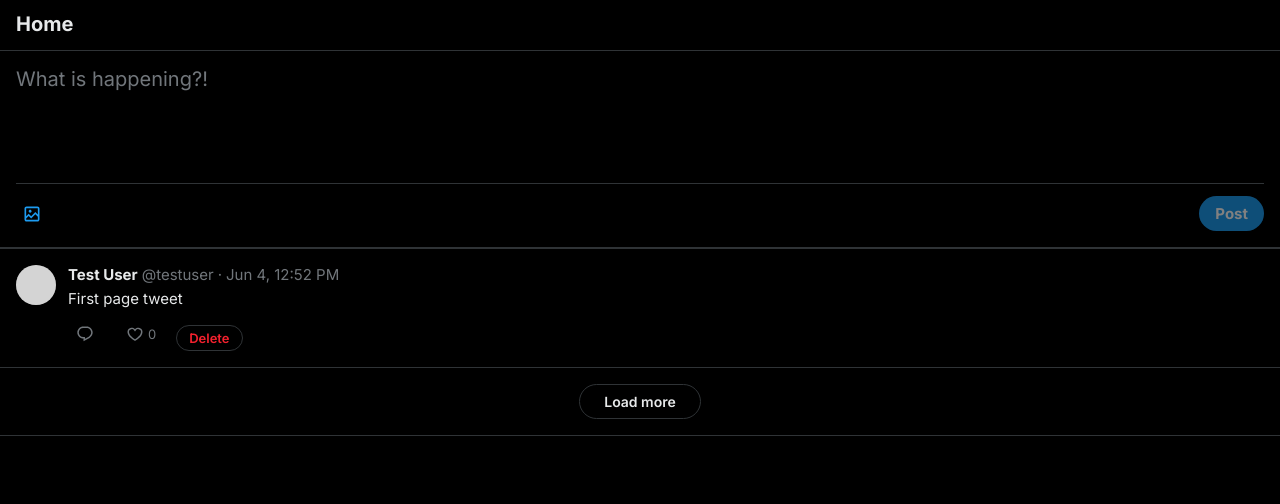
Timeline - Pagination › should load more tweets on Load More click
The image size is (1280, 504).
Expected: the text "First page tweet" is shown, 68,289 -> 183,308
Click the button "Load more" at point(640, 402), box 579,384 -> 701,419
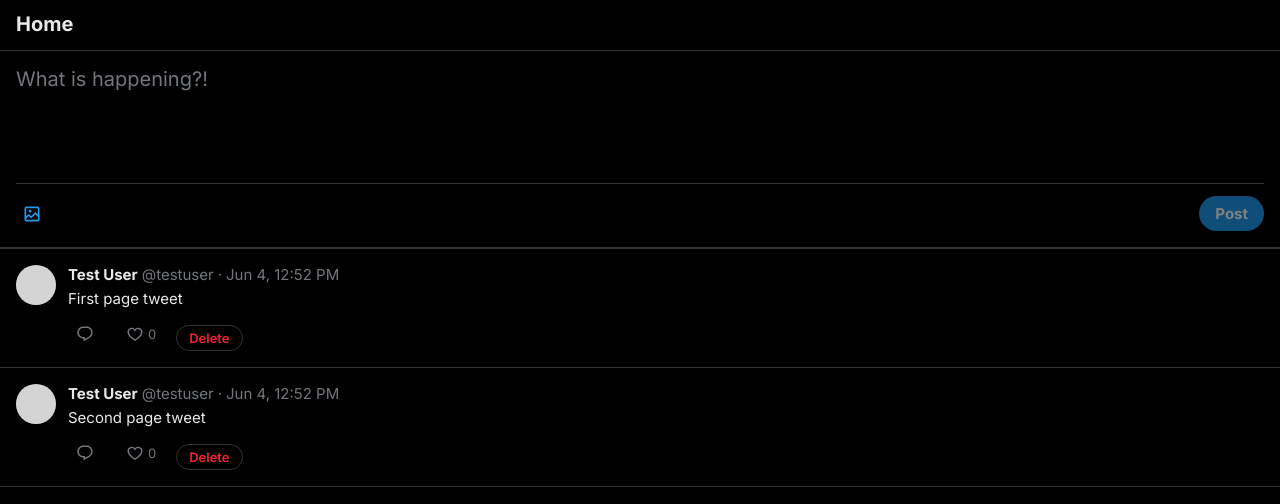
Expected: the text "Second page tweet" is shown, 68,408 -> 206,427
